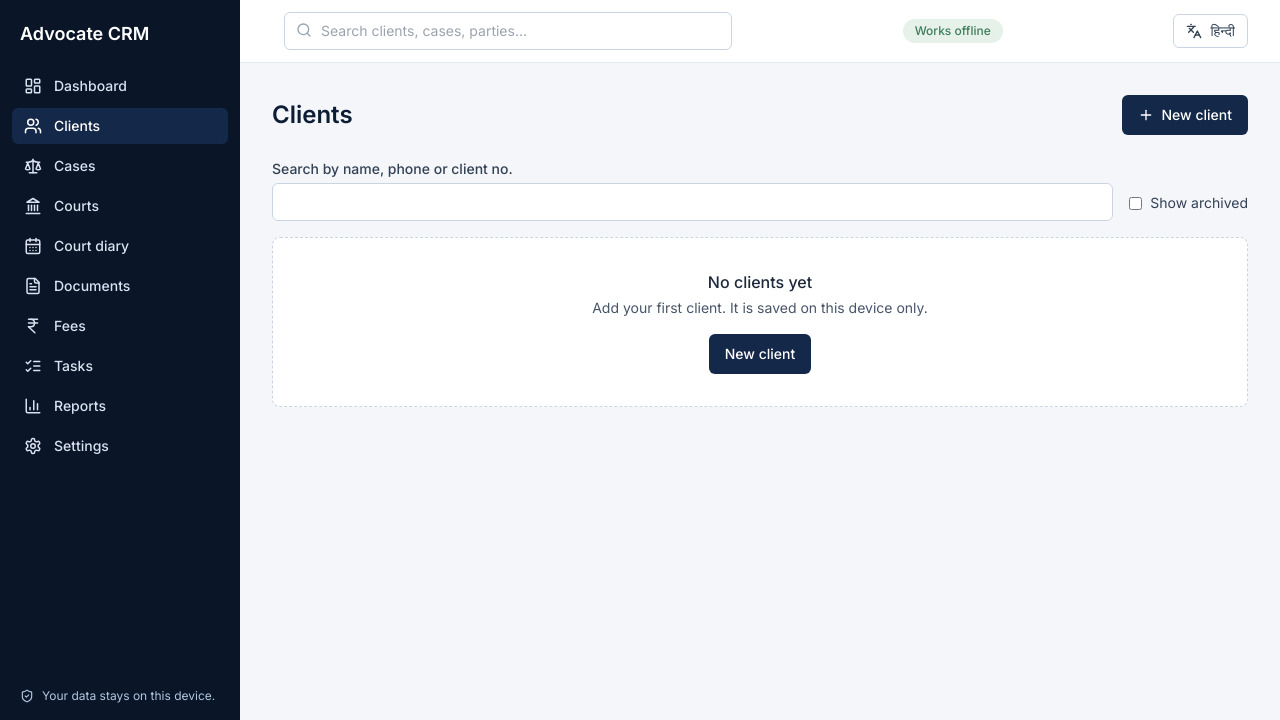
app shell › switches to Hindi and remembers the choice
Click the button named "Change language".
click(1211, 31)  # box [1173,14,1248,48]
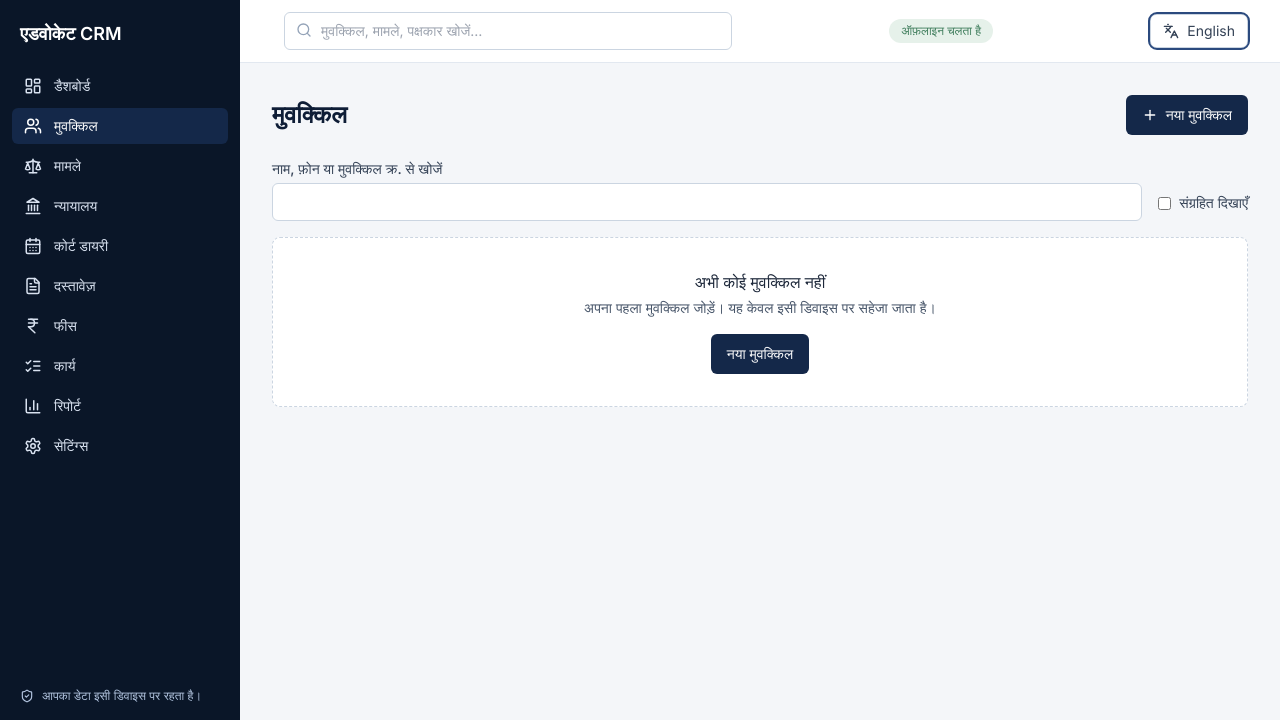
Expected: the heading "मुवक्किल" is shown, [272,99,347,131]
